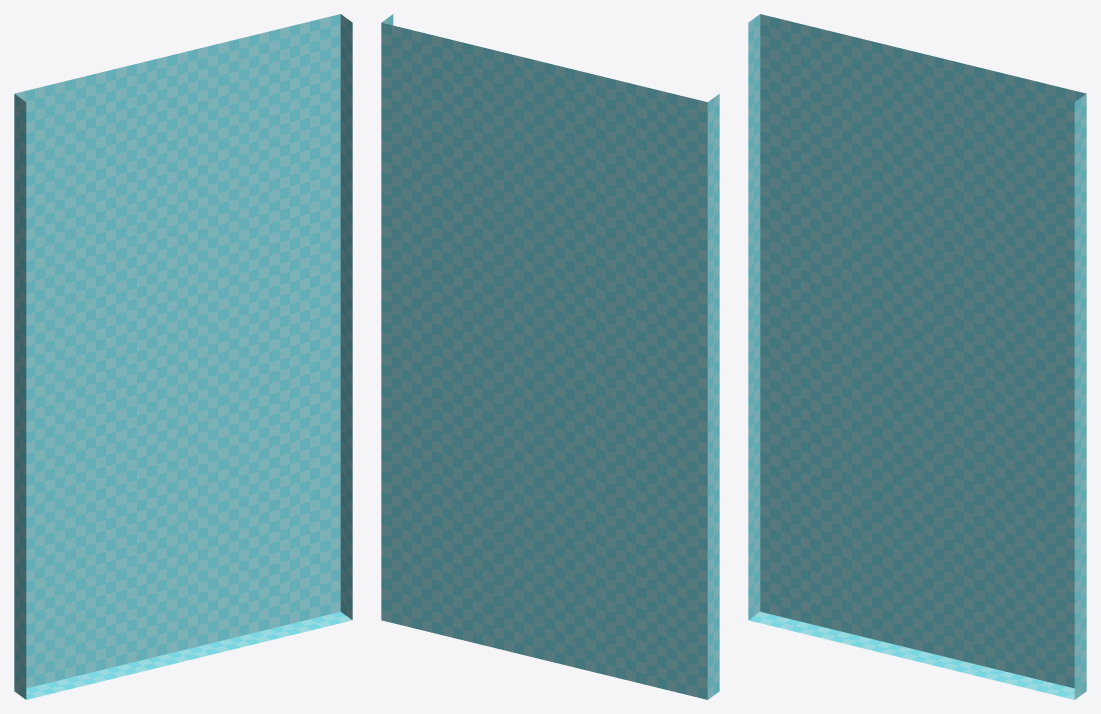
File: Restraunt Wall Doorway.obj
3 renders of one model, left to right at view 1: azimuth 30°, elevation 25°; view 2: azimuth 150°, elevation 25°; view 3: azimuth 330°, elevation 25°, orthographic.
Parts seen in each view (by area): view 1: upper; view 2: upper; view 3: upper.
Part boxes in pixels (bbox=[...]): upper: bbox=[14, 14, 352, 699]; upper: bbox=[381, 14, 719, 699]; upper: bbox=[748, 14, 1086, 699].
Bounding box in the file's own units: 2 × 3.5 × 0.125.
